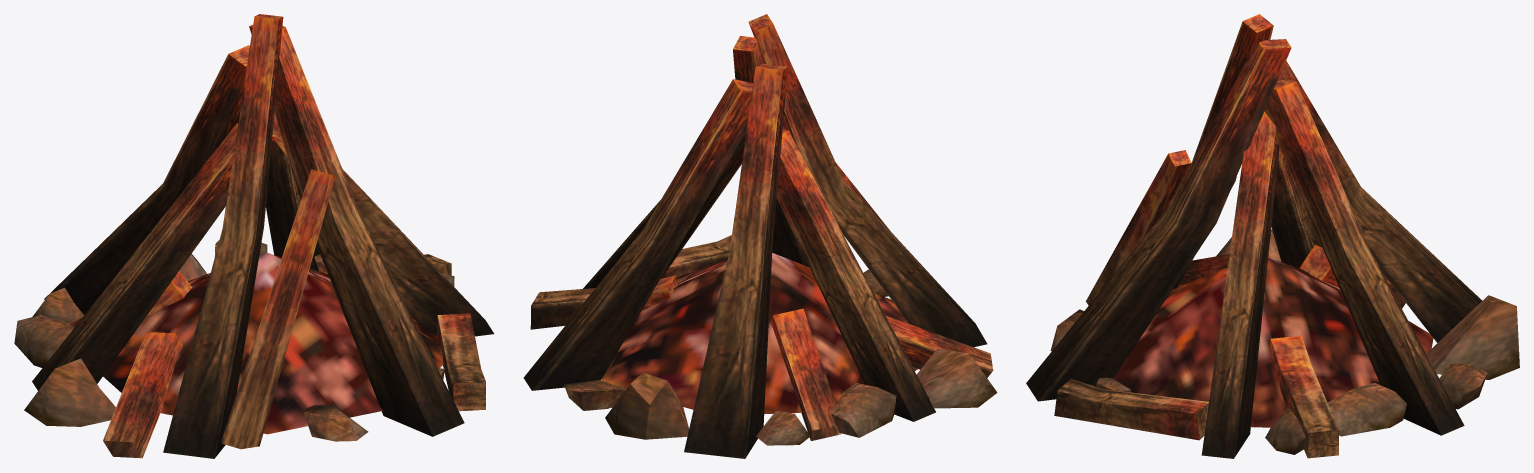
Rendered from bonefire.fbx.
3 renders of one model, left to right at view 1: azimuth 30°, elevation 25°; view 2: azimuth 150°, elevation 25°; view 3: azimuth 270°, elevation 25°, orthographic. The views are drawn at different scales.
Parts seen in each view (by area): view 1: Bonfire; view 2: Bonfire; view 3: Bonfire.
Boxes of the visible parts, x1,y1,x2,y2 form: Bonfire: (14, 14, 494, 458); Bonfire: (523, 14, 997, 458); Bonfire: (1026, 14, 1519, 458).
Bounding box in the file's own units: 39.73 × 31.54 × 38.91.
Materials: 1 (1 with a texture image).
